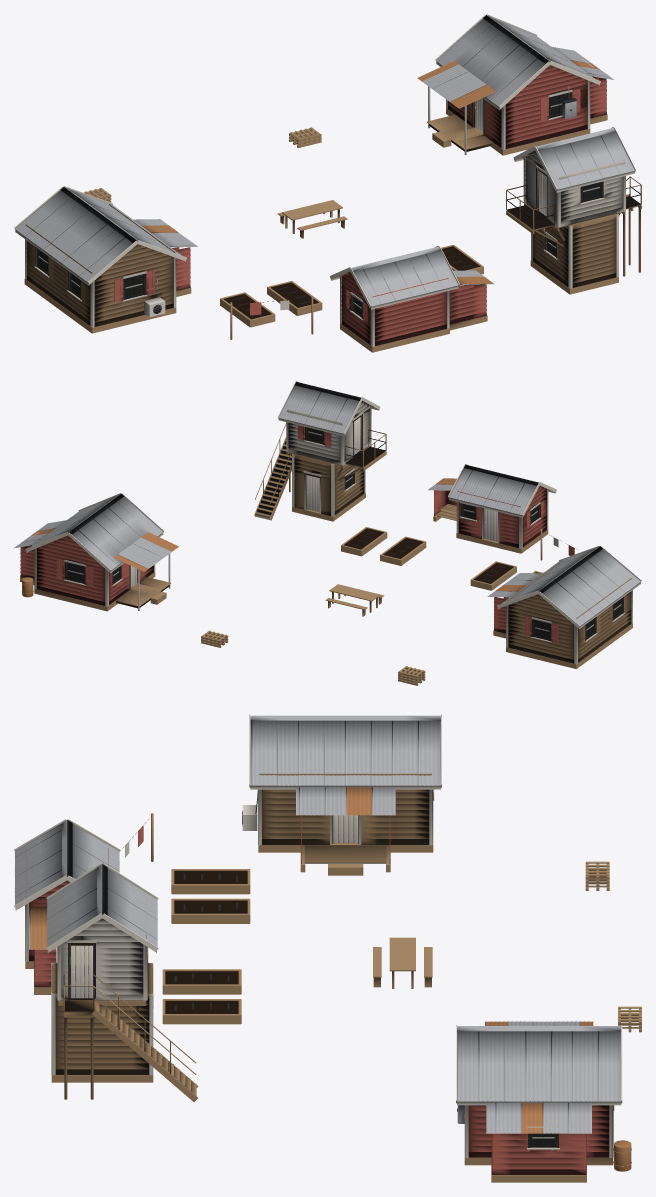
Rendered from commune.glb.
3 renders of one model, top to bottom at view 1: azimuth 30°, elevation 25°; view 2: azimuth 150°, elevation 25°; view 3: azimuth 270°, elevation 25°, orthographic. The views are drawn at different scales.
Parts seen in each view (by area): view 1: PART; view 2: PART, DOOR_h4g; view 3: PART, DOOR_h4u, DOOR_h2.
Part boxes in pixels (left/top/right/bottom): PART: left=14, top=14, right=641, bottom=352; PART: left=14, top=381, right=641, bottom=685; DOOR_h4g: left=306, top=475, right=319, bottom=511; PART: left=14, top=714, right=641, bottom=1182; DOOR_h4u: left=71, top=945, right=92, bottom=998; DOOR_h2: left=333, top=815, right=358, bottom=842.
Bounding box in the file's own units: 31.62 × 6.8 × 21.43.
